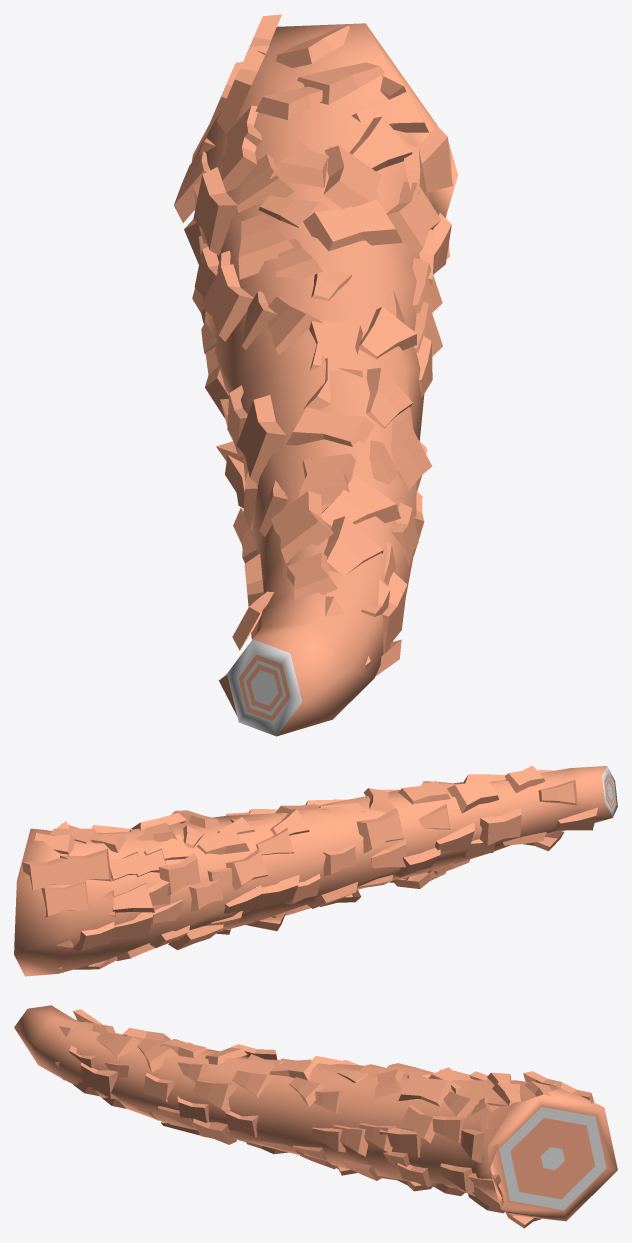
The model's file is deadTrunkFilled.fbx.
3 views of the same model, one above another, from view 1: azimuth 30°, elevation 25°; view 2: azimuth 150°, elevation 25°; view 3: azimuth 270°, elevation 25° (orthographic). The views are drawn at different scales.
Visible parts, largest first — view 1: deadTrunk full; view 2: deadTrunk full; view 3: deadTrunk full.
Boxes of the visible parts, x1,y1,x2,y2 form: deadTrunk full: [174, 14, 458, 736]; deadTrunk full: [14, 765, 617, 976]; deadTrunk full: [14, 1005, 617, 1228].
Size of the model in its own units: 525 by 199 by 830.
